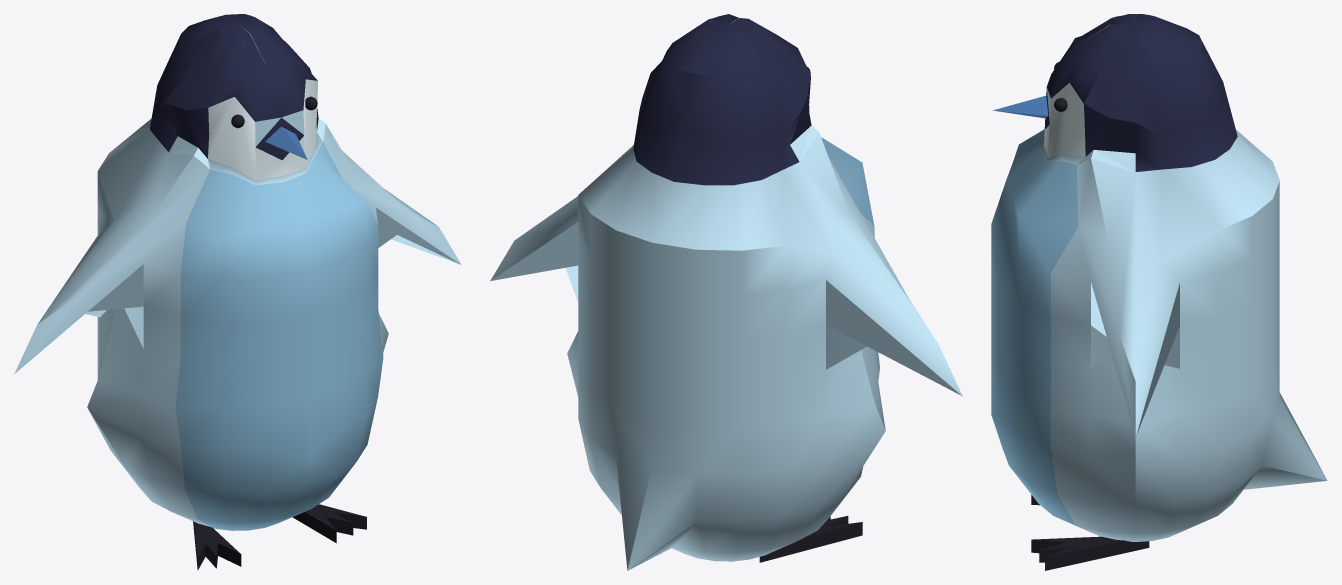
Rendered from penguin.fbx.
3 renders of one model, left to right at view 1: azimuth 30°, elevation 25°; view 2: azimuth 150°, elevation 25°; view 3: azimuth 270°, elevation 25°, orthographic. The views are drawn at different scales.
Visible parts, largest first — view 1: body, foot, kuchibashi; view 2: body, foot; view 3: body, foot, kuchibashi.
Part boxes in pixels (x1=…): body: x1=14, y1=14, x2=461, y2=530; foot: x1=193, y1=504, x2=366, y2=570; kuchibashi: x1=265, y1=126, x2=307, y2=159; body: x1=490, y1=14, x2=962, y2=570; foot: x1=759, y1=516, x2=862, y2=562; body: x1=991, y1=14, x2=1327, y2=541; foot: x1=1031, y1=495, x2=1149, y2=570; kuchibashi: x1=992, y1=95, x2=1048, y2=118.
Bounding box in the file's own units: 183 × 194 × 117.
